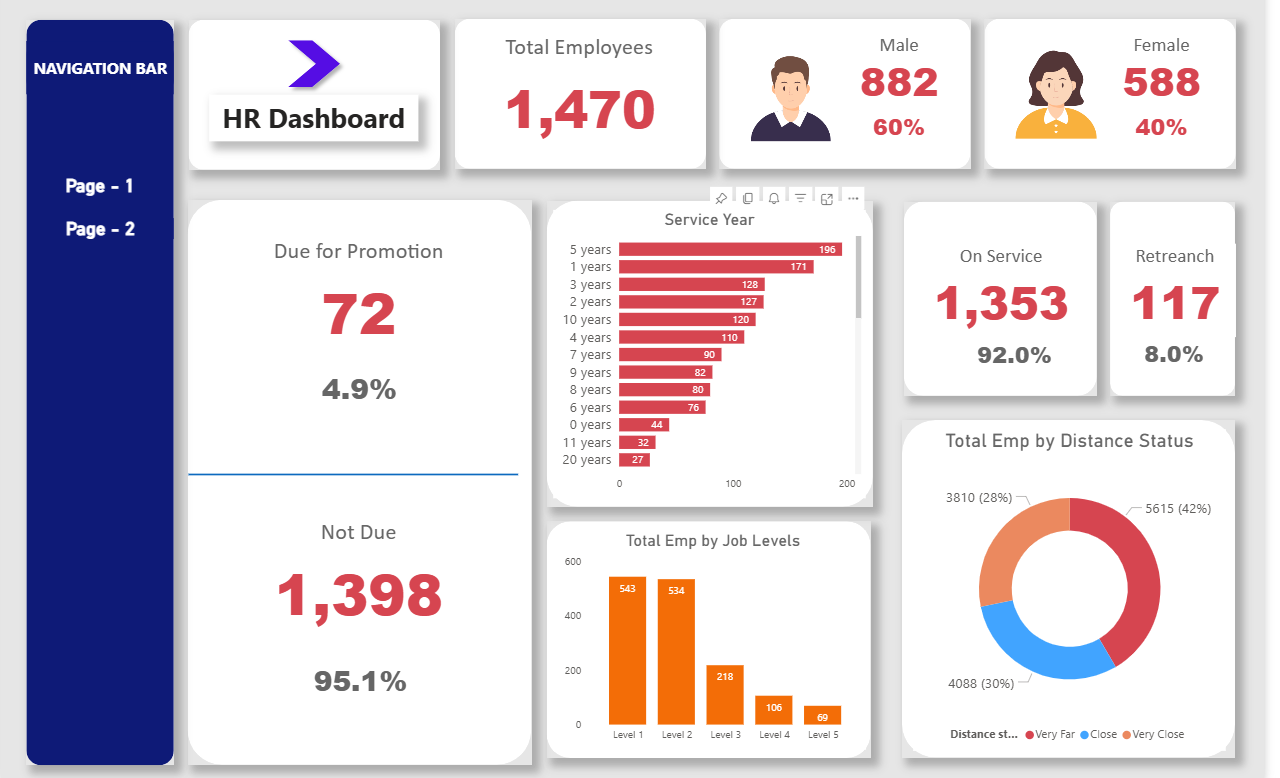

This screenshot's page, from the dashboard's own definition file:
{"tool":"powerbi","page":{"name":"Home","canvas":[1500,950],"ordinal":0},"visuals":[{"type":"shape","box":[1168.3,41.7,298.3,178.3],"z":0},{"type":"shape","box":[853.3,41.7,298.3,178.3],"z":1000},{"type":"shape","box":[538.3,41.7,298.3,178.3],"z":2000},{"type":"shape","box":[222.6,42.7,298.8,178.4],"z":3000},{"type":"shape","box":[222,256,408.1,671.2],"z":4000},{"type":"shape","box":[648,257.4,387.6,363.7],"z":5000},{"type":"shape","box":[648,637.5,384.6,281.3],"z":6000},{"type":"shape","box":[1070.4,517.3,395.6,401],"z":7000},{"type":"shape","box":[1072.2,257.8,229.1,230.9],"z":8000},{"type":"shape","box":[1317.4,257.8,148.6,230.9],"z":9000},{"type":"textbox","box":[246.7,131.7,248.3,55],"z":10000},{"type":"shape","box":[331.7,58.3,80,73.3],"z":11000},{"type":"card","title":"Total Employees","fields":{"Values":["All Measures (2).Total Emp"]},"box":[560,58.3,253.3,145],"z":12000},{"type":"card","title":"Male","fields":{"Values":["All Measures (2).Male"]},"box":[1003.3,58.3,126.7,90],"z":13000},{"type":"card","title":"Male","fields":{"Values":["All Measures (2).% Male"]},"box":[1010,148.3,113.3,43.3],"z":14000},{"type":"card","title":"Female","fields":{"Values":["All Measures (2).Female"]},"box":[1315,58.3,126.7,90],"z":15000},{"type":"card","title":"Male","fields":{"Values":["All Measures (2).% Female"]},"box":[1321.7,148.3,113.3,43.3],"z":16000},{"type":"image","box":[873.3,80,130,111.7],"z":17000},{"type":"image","box":[1186.7,68.3,131.7,126.7],"z":18000},{"type":"card","title":"Due for Promotion","fields":{"Values":["All Measures (2).Due for Promotion"]},"box":[297.8,299.3,252.9,145.2],"z":19000},{"type":"card","title":"Total Employees","fields":{"Values":["All Measures (2).% Due"]},"box":[362.2,443,127.2,73.3],"z":20000},{"type":"card","title":"Not Due","fields":{"Values":["All Measures (2).Not Due"]},"box":[297.8,633,252.9,145.2],"z":21000},{"type":"card","title":"Total Employees","fields":{"Values":["All Measures (2).% Not Due"]},"box":[363.4,790.5,127.2,73.3],"z":22000},{"type":"shape","box":[222.6,532,391.8,100.6],"z":23000},{"type":"barChart","title":"Service Year","fields":{"Y":["All Measures (2).Total Emp"],"Category":["Clustered HR Data.Service Year"]},"box":[655.5,267.9,371.1,342.7],"z":24000},{"type":"columnChart","fields":{"Category":["Clustered HR Data.Job Levels"],"Y":["All Measures (2).Total Emp"]},"box":[663,649.5,363.7,260.4],"z":25000},{"type":"card","title":"On Service","fields":{"Values":["All Measures (2).On service"]},"box":[1082,308.2,211,110.7],"z":26000},{"type":"card","title":"Male","fields":{"Values":["All Measures (2).% On service"]},"box":[1146.4,419,113.7,43.4],"z":27000},{"type":"card","title":"Retreanch","fields":{"Values":["All Measures (2).Will be retreanched"]},"box":[1321.4,308.3,145.2,110.7],"z":28000},{"type":"card","title":"Male","fields":{"Values":["All Measures (2).% Retreanched"]},"box":[1336.4,417.5,113.7,43.4],"z":29000},{"type":"donutChart","title":"Total Emp by Distance Status","fields":{"Category":["Clustered HR Data.Distance status"],"Y":["Sum(Clustered HR Data.DistanceFromHome)"]},"box":[1083.5,528.3,371.1,381.6],"z":30000},{"type":"shape","box":[30.5,42.4,175.3,885.7],"z":31000},{"type":"shape","box":[30.4,68,175.4,62.6],"z":32000},{"type":"actionButton","title":"Page - 1","box":[30,227.5,175,40],"z":32001},{"type":"actionButton","title":"Page - 2","box":[31.2,278.8,173.8,40],"z":32002}]}

Visuals, with their boxes on the page's 1500x950 design canvas (x1, y1, x2, y2). These are canvas units, not pixel positions in the 1280x778 screenshot, which may show the page scaled, cropped or inside an application window:
shape: pyautogui.locateOnScreen(1168, 42, 1467, 220)
shape: pyautogui.locateOnScreen(853, 42, 1152, 220)
shape: pyautogui.locateOnScreen(538, 42, 837, 220)
shape: pyautogui.locateOnScreen(223, 43, 521, 221)
shape: pyautogui.locateOnScreen(222, 256, 630, 927)
shape: pyautogui.locateOnScreen(648, 257, 1036, 621)
shape: pyautogui.locateOnScreen(648, 638, 1033, 919)
shape: pyautogui.locateOnScreen(1070, 517, 1466, 918)
shape: pyautogui.locateOnScreen(1072, 258, 1301, 489)
shape: pyautogui.locateOnScreen(1317, 258, 1466, 489)
textbox: pyautogui.locateOnScreen(247, 132, 495, 187)
shape: pyautogui.locateOnScreen(332, 58, 412, 132)
"Total Employees" card: pyautogui.locateOnScreen(560, 58, 813, 203)
"Male" card: pyautogui.locateOnScreen(1003, 58, 1130, 148)
"Male" card: pyautogui.locateOnScreen(1010, 148, 1123, 192)
"Female" card: pyautogui.locateOnScreen(1315, 58, 1442, 148)
"Male" card: pyautogui.locateOnScreen(1322, 148, 1435, 192)
image: pyautogui.locateOnScreen(873, 80, 1003, 192)
image: pyautogui.locateOnScreen(1187, 68, 1318, 195)
"Due for Promotion" card: pyautogui.locateOnScreen(298, 299, 551, 444)
"Total Employees" card: pyautogui.locateOnScreen(362, 443, 489, 516)
"Not Due" card: pyautogui.locateOnScreen(298, 633, 551, 778)
"Total Employees" card: pyautogui.locateOnScreen(363, 790, 491, 864)
shape: pyautogui.locateOnScreen(223, 532, 614, 633)
"Service Year" barChart: pyautogui.locateOnScreen(656, 268, 1027, 611)
columnChart - Clustered HR Data.Job Levels x All Measures (2).Total Emp: pyautogui.locateOnScreen(663, 650, 1027, 910)
"On Service" card: pyautogui.locateOnScreen(1082, 308, 1293, 419)
"Male" card: pyautogui.locateOnScreen(1146, 419, 1260, 462)
"Retreanch" card: pyautogui.locateOnScreen(1321, 308, 1467, 419)
"Male" card: pyautogui.locateOnScreen(1336, 418, 1450, 461)
"Total Emp by Distance Status" donutChart: pyautogui.locateOnScreen(1084, 528, 1455, 910)
shape: pyautogui.locateOnScreen(30, 42, 206, 928)
shape: pyautogui.locateOnScreen(30, 68, 206, 131)
"Page - 1" actionButton: pyautogui.locateOnScreen(30, 228, 205, 268)
"Page - 2" actionButton: pyautogui.locateOnScreen(31, 279, 205, 319)
